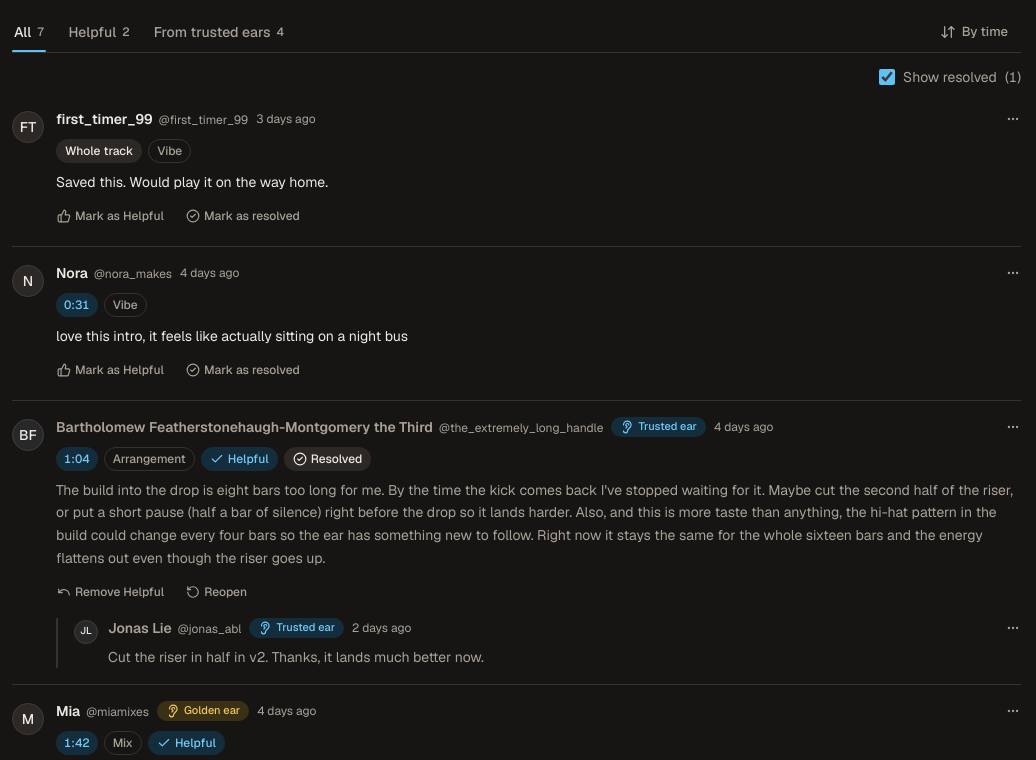
CommentList threads › lets the owner resolve and reopen, and hides resolved on request
Expected: the text "Resolved" is shown, [284,446,371,470]
Click the button "Reopen" at (217, 592), box [177,578,256,606]
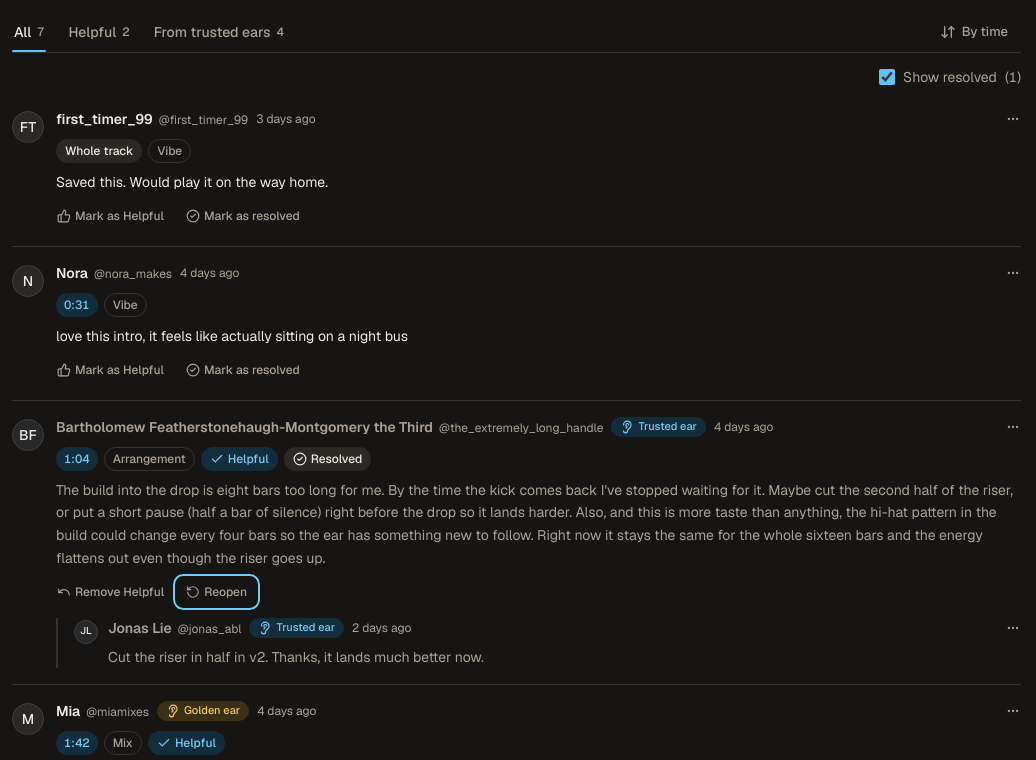
Click the checkbox labelled "Show resolved (1)" at (887, 77), box [879,69,895,85]
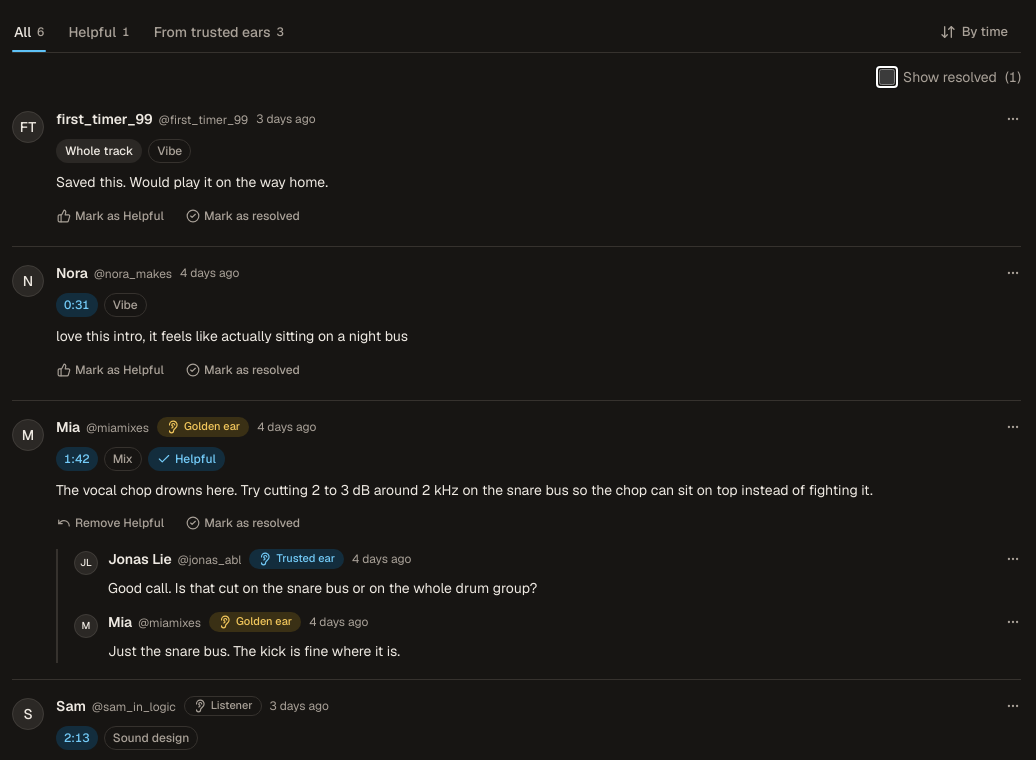
Now the tab "All 6" is shown, box [12,12,46,52]
